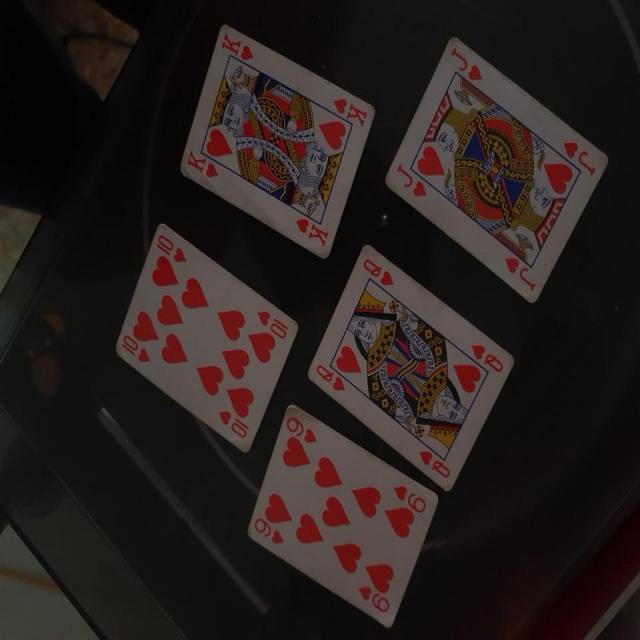10 of hearts: (112, 215, 302, 460)
9 of hearts: (241, 392, 446, 632)
jack of hearts: (378, 22, 620, 307)
king of hearts: (174, 14, 374, 260)
queen of hearts: (305, 232, 525, 500)
